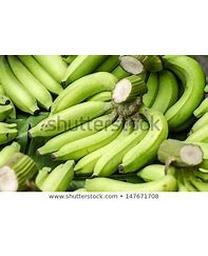banana: (73, 104, 167, 176)
